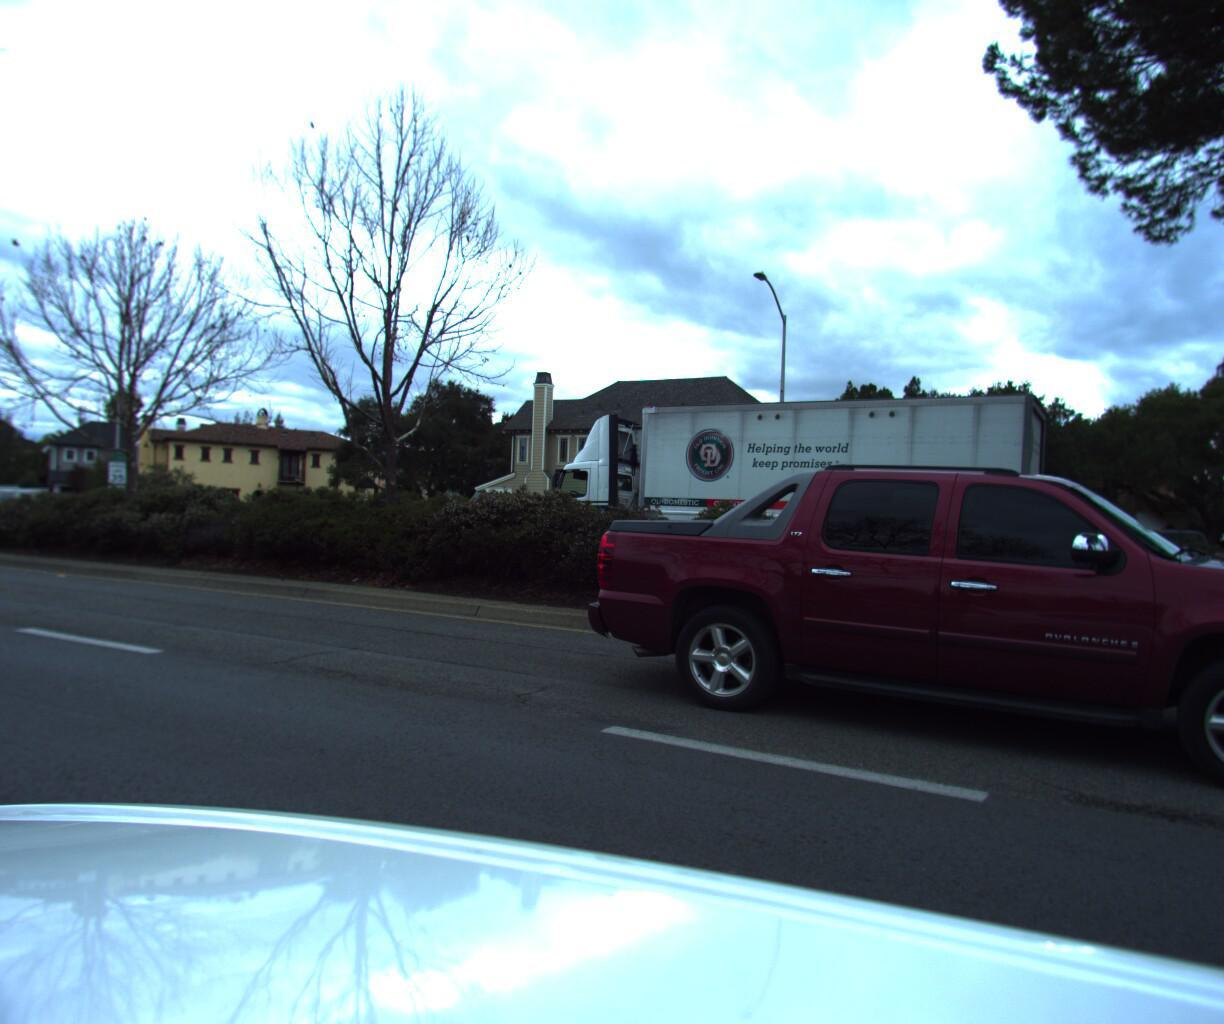car: (565, 450, 1224, 841), (1048, 528, 1224, 614), (0, 490, 51, 536)
truck: (496, 390, 1064, 633)
